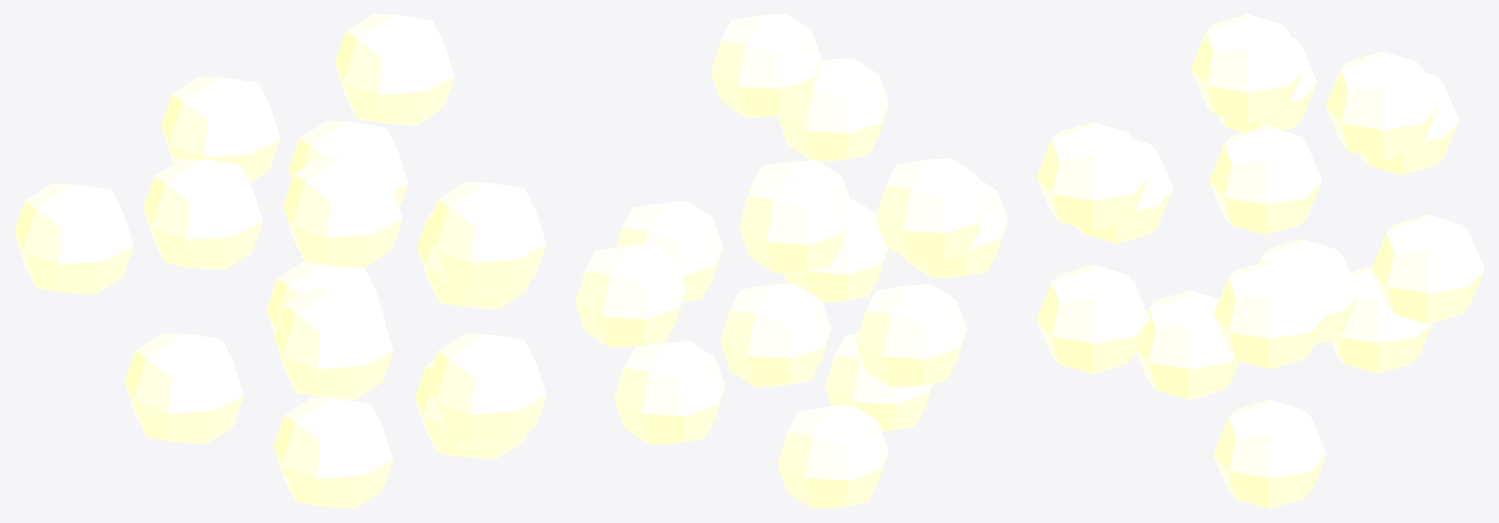
File: Laong.fbx
3 views of the same model, side by side, from view 1: azimuth 30°, elevation 25°; view 2: azimuth 150°, elevation 25°; view 3: azimuth 270°, elevation 25° (orthographic). The views are drawn at different scales.
Visible parts, largest first — view 1: Cube; view 2: Cube; view 3: Cube.
Part boxes in pixels (x1,y1,x2,y2): Cube: [14, 14, 546, 508]; Cube: [575, 14, 1007, 508]; Cube: [1036, 14, 1484, 508].
Size of the model in its own units: 7.03 by 7.29 by 6.64.
